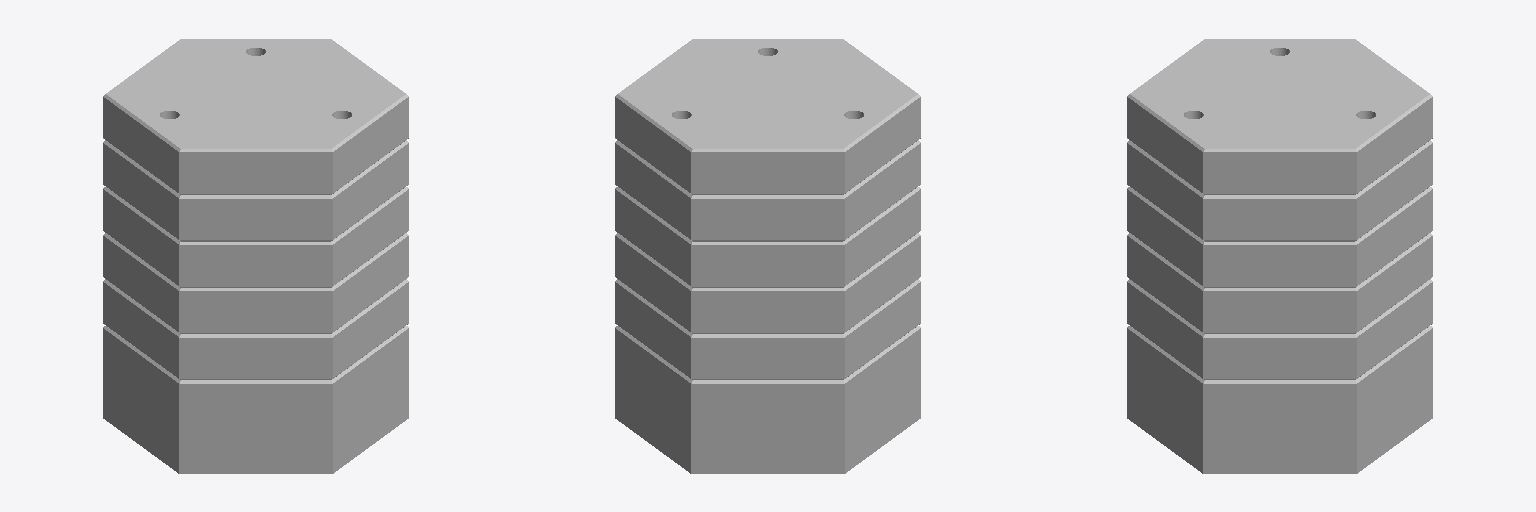
The model's file is lvl6B.obj.
3 views of the same model, side by side, from view 1: azimuth 30°, elevation 25°; view 2: azimuth 150°, elevation 25°; view 3: azimuth 270°, elevation 25° (orthographic).
Parts seen in each view (by area): view 1: Lvl6B-3_(Mono-NoMags); view 2: Lvl6B-3_(Mono-NoMags); view 3: Lvl6B-3_(Mono-NoMags).
Boxes of the visible parts, box(x1,y1,x2,y2) form: Lvl6B-3_(Mono-NoMags): box(103, 39, 408, 473); Lvl6B-3_(Mono-NoMags): box(615, 39, 920, 473); Lvl6B-3_(Mono-NoMags): box(1127, 39, 1432, 473).
Bounding box in the file's own units: 3.13 × 4.22 × 3.62.